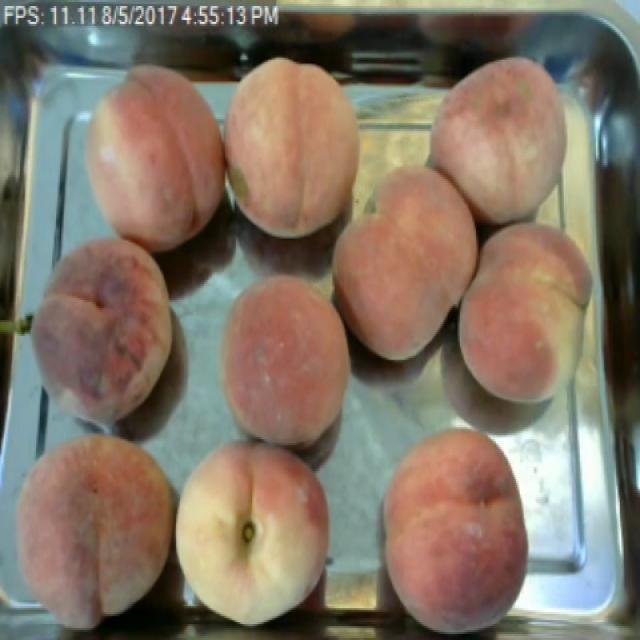Fruit: (0, 409, 184, 640), (11, 221, 194, 451), (438, 207, 630, 417), (319, 151, 496, 374), (369, 417, 543, 640), (172, 421, 347, 640), (199, 264, 368, 467), (72, 56, 227, 264), (420, 42, 585, 236), (223, 48, 377, 250)
